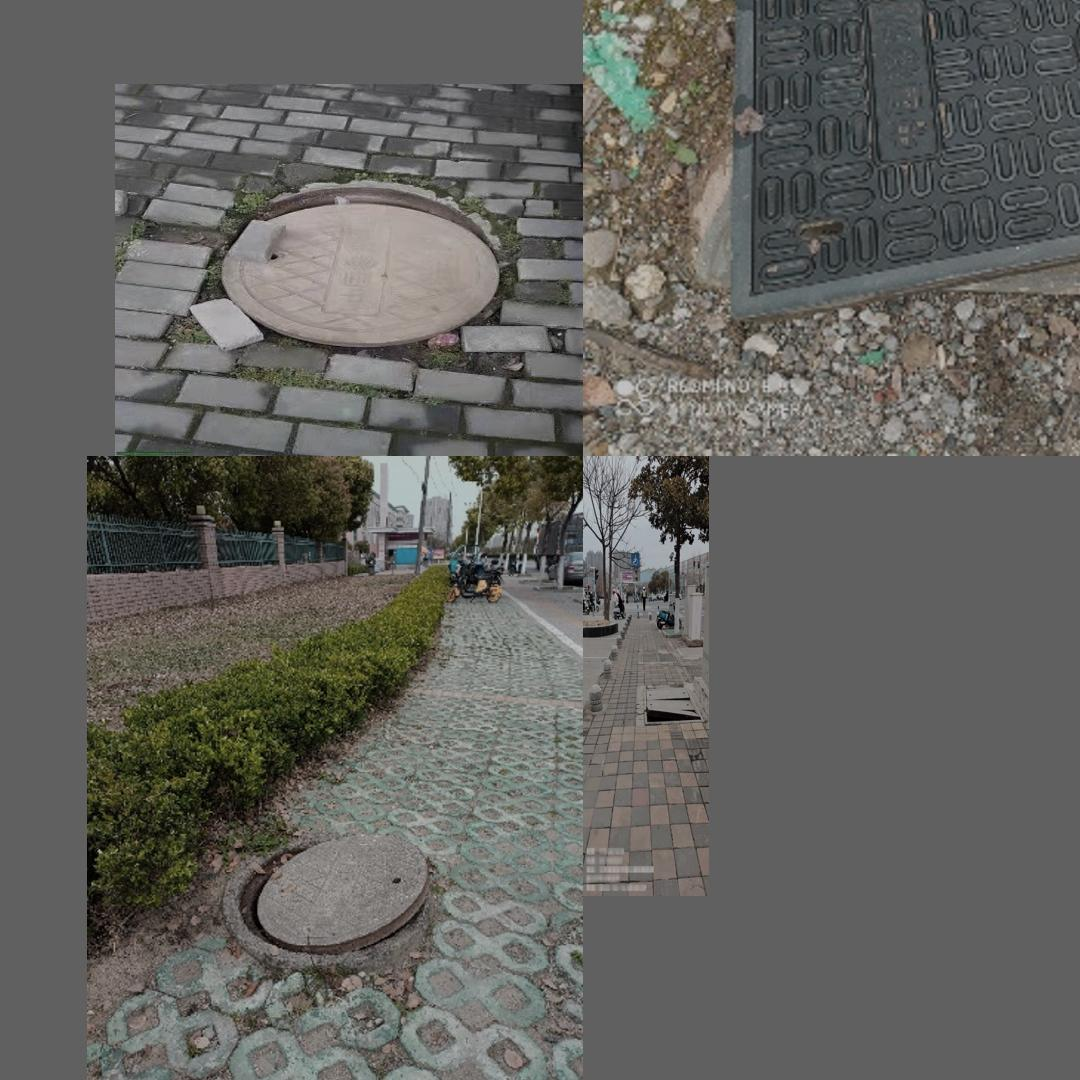good: (639, 650, 679, 664)
uncovered: (730, 0, 1080, 310), (219, 179, 500, 347), (221, 829, 436, 972), (643, 684, 705, 724)
